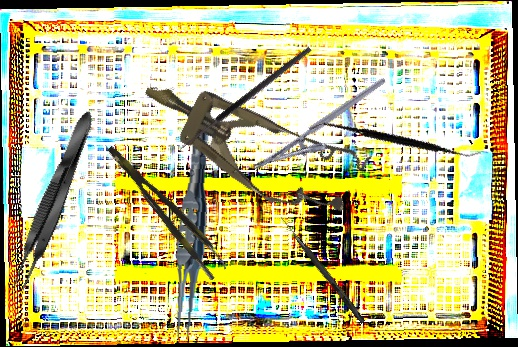Hook Surgical: (176, 45, 318, 160), (277, 215, 367, 324)
Needle Holder: (251, 76, 399, 189)
Spatula Surgical: (310, 73, 482, 209)
Speculum: (126, 51, 373, 234)
Tissue Forceps: (5, 106, 103, 295), (105, 135, 230, 282), (169, 107, 216, 345)
